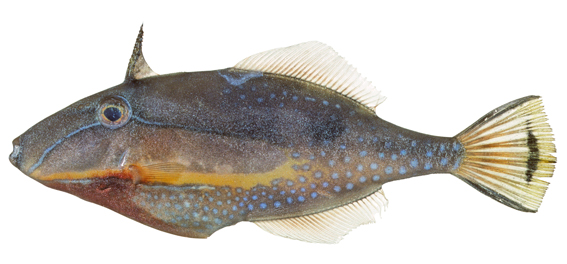fish: (10, 24, 556, 244)
